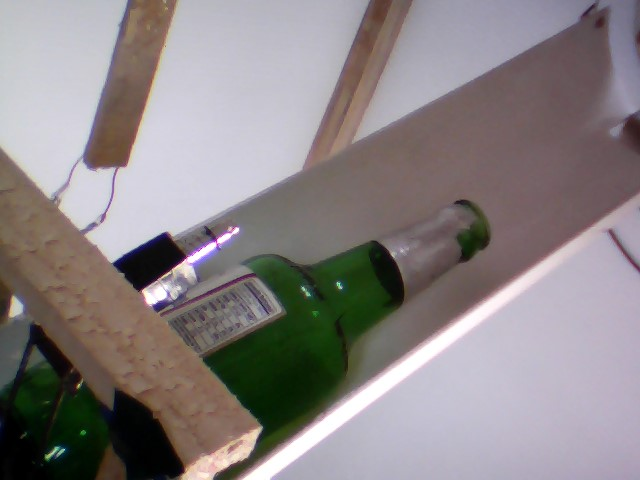vidrio: (192, 194, 508, 451)
